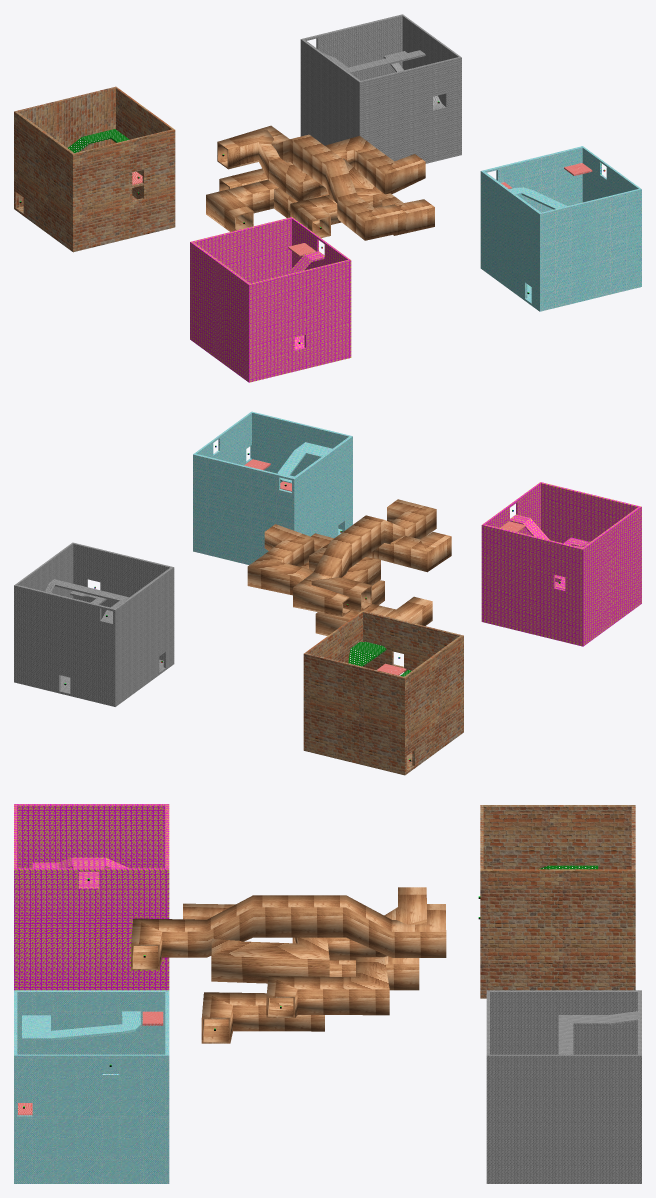
The model's file is Level6.FBX.
3 renders of one model, top to bottom at view 1: azimuth 30°, elevation 25°; view 2: azimuth 150°, elevation 25°; view 3: azimuth 270°, elevation 25°, orthographic. The views are drawn at different scales.
Parts seen in each view (by area): view 1: Chamber4, Chamber3, Chamber1, Chamber2, Tunnel4, Tunnel2, Tunnel1, Tunnel3, WalkWay1; view 2: Chamber2, Chamber4, Chamber1, Chamber3, Tunnel1, Tunnel2, Tunnel4, Tunnel3, WalkWay1; view 3: Chamber2, Chamber3, Chamber1, Chamber4, Tunnel1, Tunnel4, Tunnel3, Tunnel2.
Part boxes in pixels (x1,y1,x2,y2): Chamber4: [190, 217, 351, 382]; Chamber3: [480, 146, 641, 311]; Chamber1: [14, 86, 175, 252]; Chamber2: [300, 14, 461, 163]; Tunnel4: [217, 129, 382, 238]; Tunnel2: [206, 136, 425, 231]; Tunnel1: [223, 125, 405, 240]; Tunnel3: [219, 168, 434, 235]; WalkWay1: [68, 129, 129, 152]; Chamber2: [14, 542, 174, 706]; Chamber4: [481, 482, 641, 646]; Chamber1: [303, 611, 463, 775]; Chamber3: [193, 411, 352, 564]; Tunnel1: [293, 499, 436, 616]; Tunnel2: [247, 524, 432, 625]; Tunnel4: [309, 532, 451, 611]; Tunnel3: [301, 533, 384, 635]; WalkWay1: [348, 641, 411, 676]; Chamber2: [486, 990, 641, 1183]; Chamber3: [14, 990, 169, 1183]; Chamber1: [480, 805, 635, 998]; Chamber4: [14, 804, 169, 990]; Tunnel1: [131, 895, 446, 970]; Tunnel4: [183, 887, 426, 983]; Tunnel3: [201, 956, 419, 1043]; Tunnel2: [266, 957, 389, 1017].
Size of the model in its own units: 324 by 86.82 by 342.
8 materials, 8 textured.
